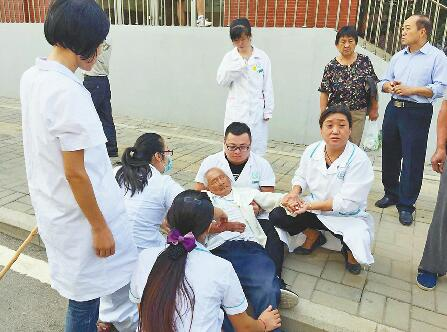fall: (189, 180, 303, 328)
